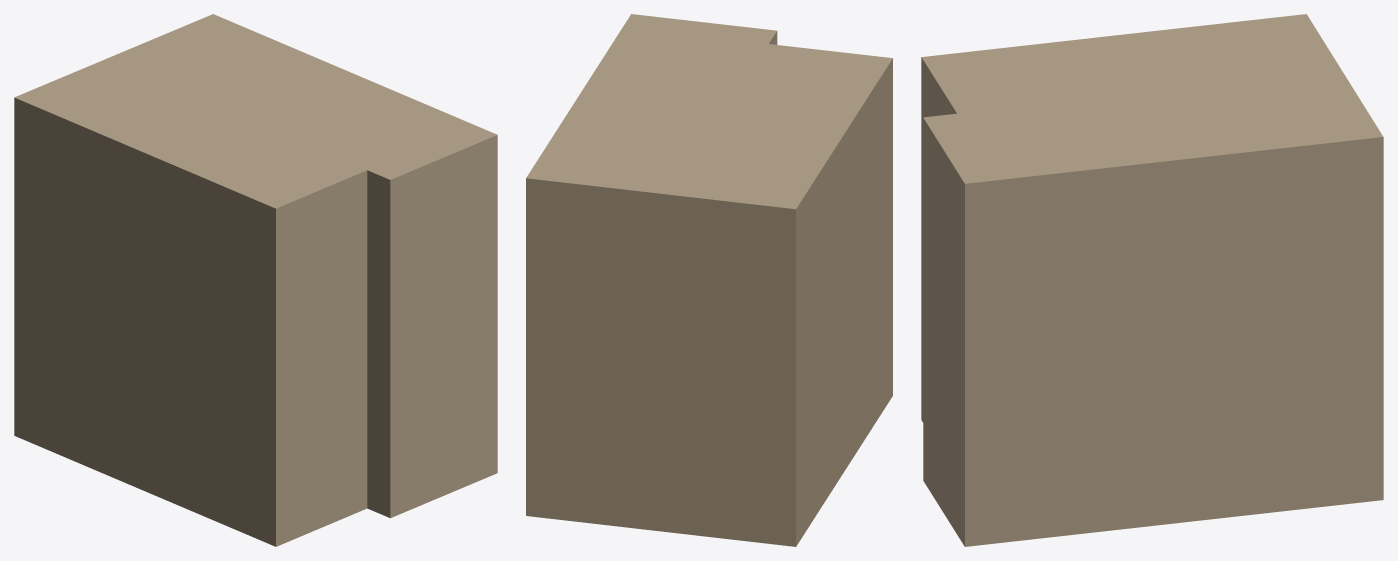
File: bld_106456253.dae
3 views of the same model, side by side, from view 1: azimuth 30°, elevation 25°; view 2: azimuth 150°, elevation 25°; view 3: azimuth 270°, elevation 25° (orthographic). The views are drawn at different scales.
Parts seen in each view (by area): view 1: bld_106456253; view 2: bld_106456253; view 3: bld_106456253.
Boxes of the visible parts, x1,y1,x2,y2 form: bld_106456253: [14, 14, 497, 546]; bld_106456253: [526, 14, 892, 546]; bld_106456253: [921, 14, 1383, 546].
Size of the model in its own units: 8.03 by 9.22 by 8.
